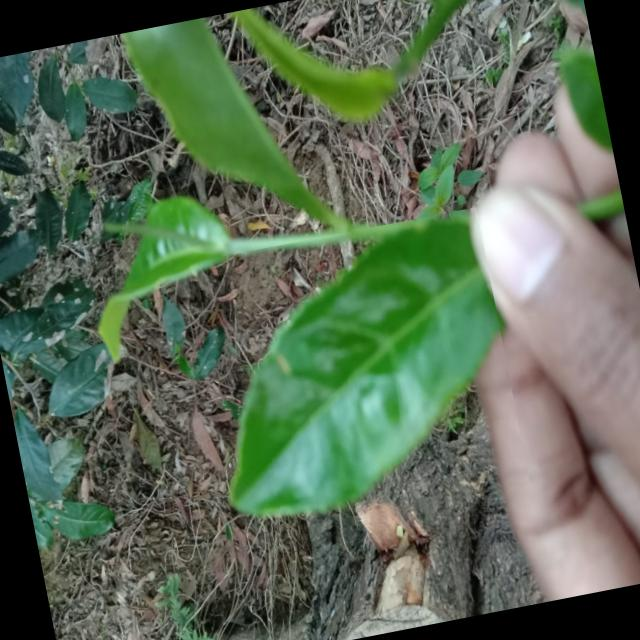Category C 4-7 days: (164, 206, 531, 550)
